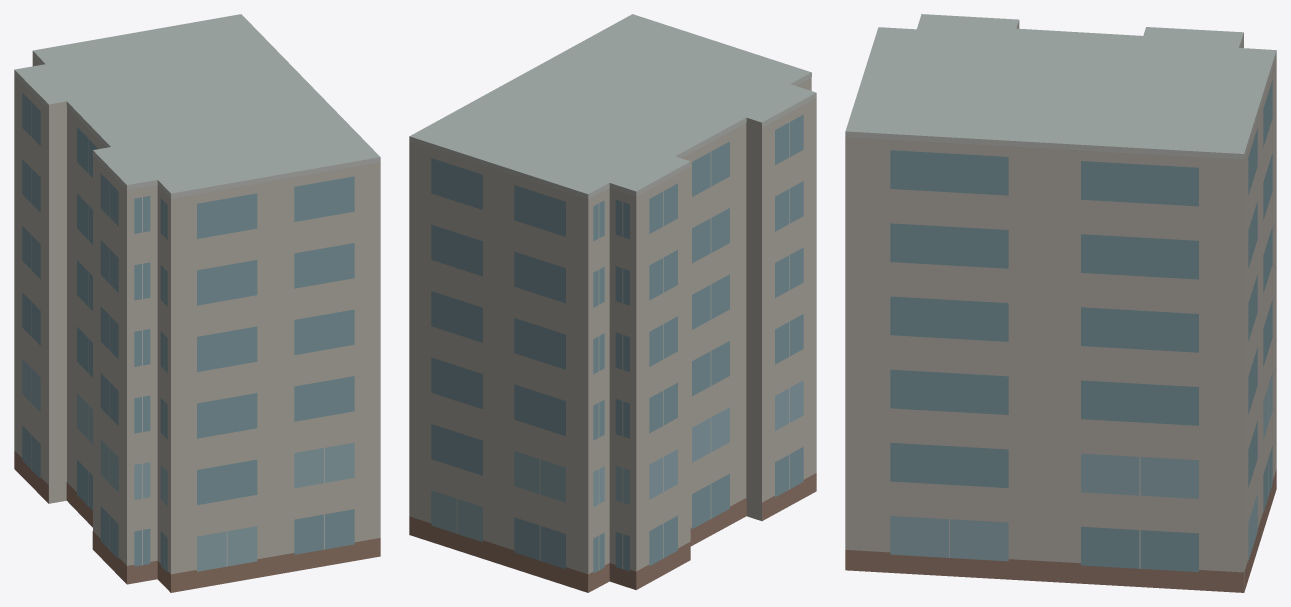
Rendered from survey-upis-32669963.glb.
The picture shows the model from 3 angles, left to right: view 1: azimuth 30°, elevation 25°; view 2: azimuth 150°, elevation 25°; view 3: azimuth 270°, elevation 25°; orthographic projection. The views are drawn at different scales.
Parts seen in each view (by area): view 1: survey-upis-32669963.tmp; view 2: survey-upis-32669963.tmp; view 3: survey-upis-32669963.tmp.
Boxes of the visible parts, bbox=[...] form: survey-upis-32669963.tmp: bbox=[14, 14, 380, 592]; survey-upis-32669963.tmp: bbox=[409, 14, 816, 592]; survey-upis-32669963.tmp: bbox=[845, 14, 1276, 592].
Bounding box in the file's own units: 13.08 × 19.1 × 17.02.
